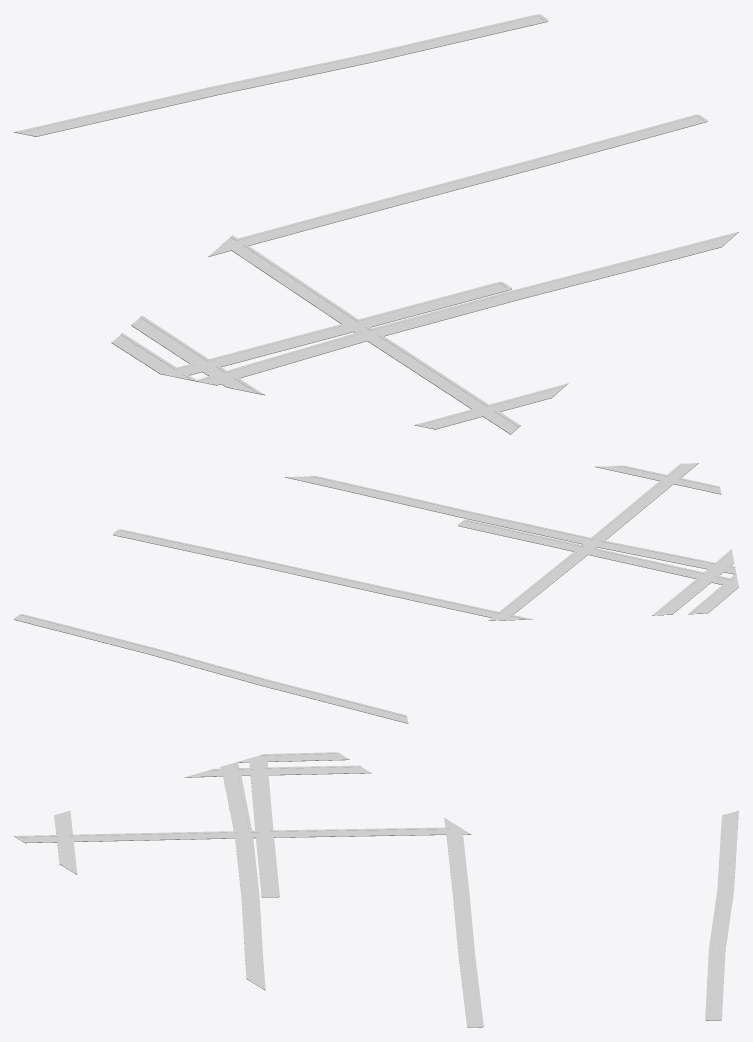
The picture shows the model from 3 angles, top to bottom: view 1: azimuth 30°, elevation 25°; view 2: azimuth 150°, elevation 25°; view 3: azimuth 270°, elevation 25°; orthographic projection. The views are drawn at different scales.
Parts seen in each view (by area): view 1: col_road, col_sidewalk, col_curb, sidewalk; view 2: col_road, col_sidewalk, col_curb, sidewalk; view 3: col_road, col_sidewalk, col_curb, sidewalk.
Boxes of the visible parts, x1,y1,x2,y2 form: col_road: (19, 16, 735, 432); col_sidewalk: (15, 14, 738, 433); col_curb: (18, 15, 736, 431); sidewalk: (14, 21, 738, 434); col_road: (17, 463, 738, 721); col_sidewalk: (14, 463, 738, 723); col_curb: (17, 463, 736, 721); sidewalk: (14, 463, 738, 723); col_road: (16, 753, 735, 1025); col_sidewalk: (14, 752, 738, 1027); col_curb: (16, 753, 735, 1025); sidewalk: (14, 759, 738, 1027).
Bounding box in the file's own units: 440 × 0.32 × 490.
